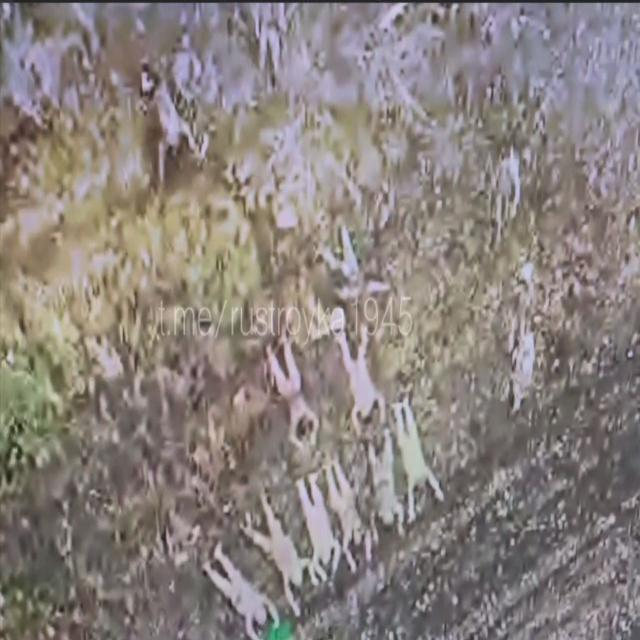infantry: (260, 331, 324, 456), (324, 302, 387, 420), (212, 539, 282, 637), (326, 459, 365, 563), (396, 398, 429, 520), (262, 517, 304, 594), (302, 492, 337, 582), (366, 444, 392, 530)
